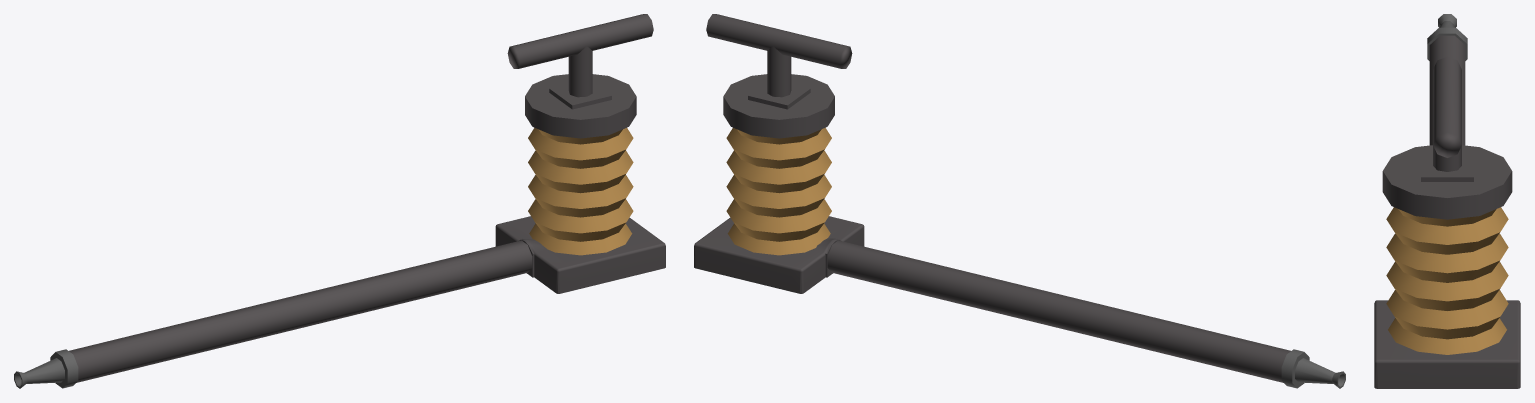
Rendered from a2_pomp.fbx.
3 views of the same model, side by side, from view 1: azimuth 30°, elevation 25°; view 2: azimuth 150°, elevation 25°; view 3: azimuth 270°, elevation 25° (orthographic). The views are drawn at different scales.
Visible parts, largest first — view 1: pomp; view 2: pomp; view 3: pomp.
Boxes of the visible parts, x1,y1,x2,y2 form: pomp: (14, 14, 665, 388); pomp: (694, 14, 1345, 388); pomp: (1374, 14, 1520, 388).
Size of the model in its own units: 8.67 by 3.01 by 1.51.
